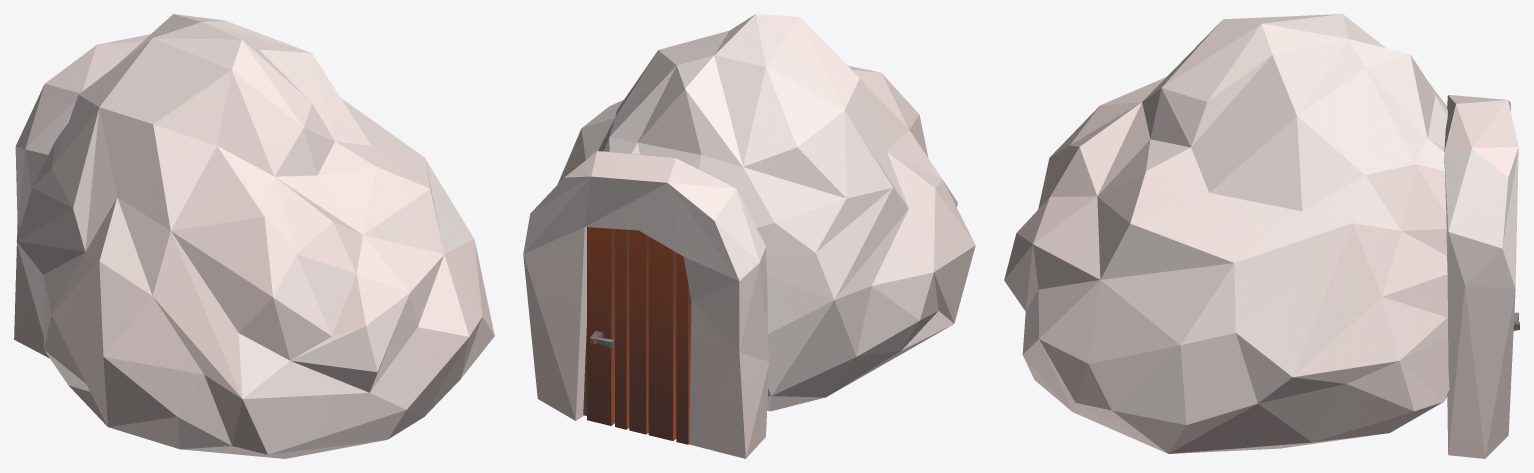
Rendered from Igloo_1A.fbx.
The picture shows the model from 3 angles, left to right: view 1: azimuth 30°, elevation 25°; view 2: azimuth 150°, elevation 25°; view 3: azimuth 270°, elevation 25°; orthographic projection. The views are drawn at different scales.
Parts seen in each view (by area): view 1: polySurface34; view 2: polySurface34; view 3: polySurface34.
Part boxes in pixels (x1=…): polySurface34: x1=14, y1=14, x2=494, y2=458; polySurface34: x1=523, y1=14, x2=975, y2=458; polySurface34: x1=1004, y1=14, x2=1519, y2=458.
Size of the model in its own units: 4.61 by 4.13 by 5.04.
Materials: 1 (1 with a texture image).
